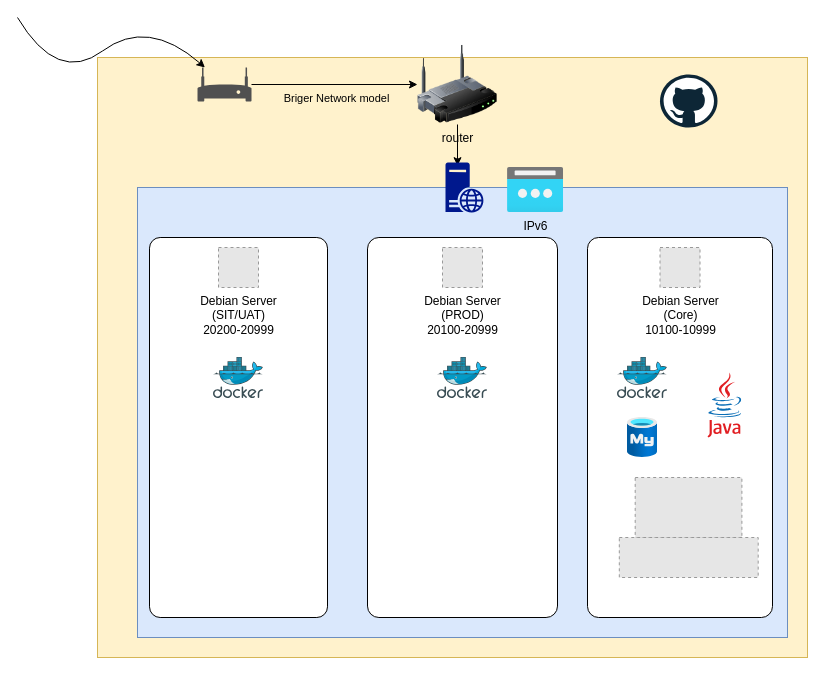
Image size: 825x675. Some labels were removed from this diagram. Grey dashed boxes stand in for pictures. The shapes that lost their labels are listed below. From the top down, each one's box as (x1, y1, x2, y2) in pixels, then its label:
(197, 67, 251, 101): modem
(659, 74, 718, 128): Github
(445, 162, 483, 212): Win11
